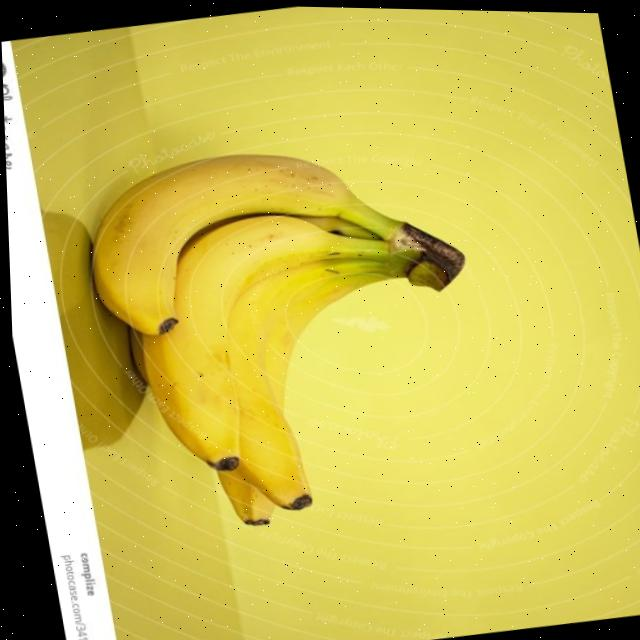Banana: (139, 214, 394, 468), (90, 153, 401, 335), (225, 257, 407, 509)
